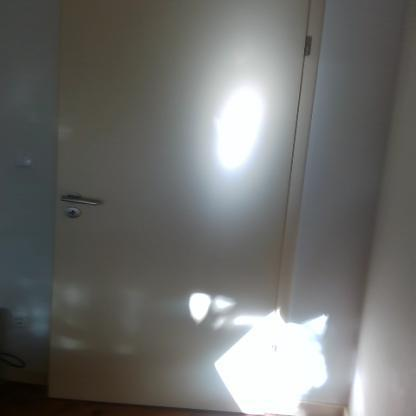door: (61, 0, 279, 415)
hinged: (300, 33, 312, 57)
lever: (60, 194, 104, 209)
